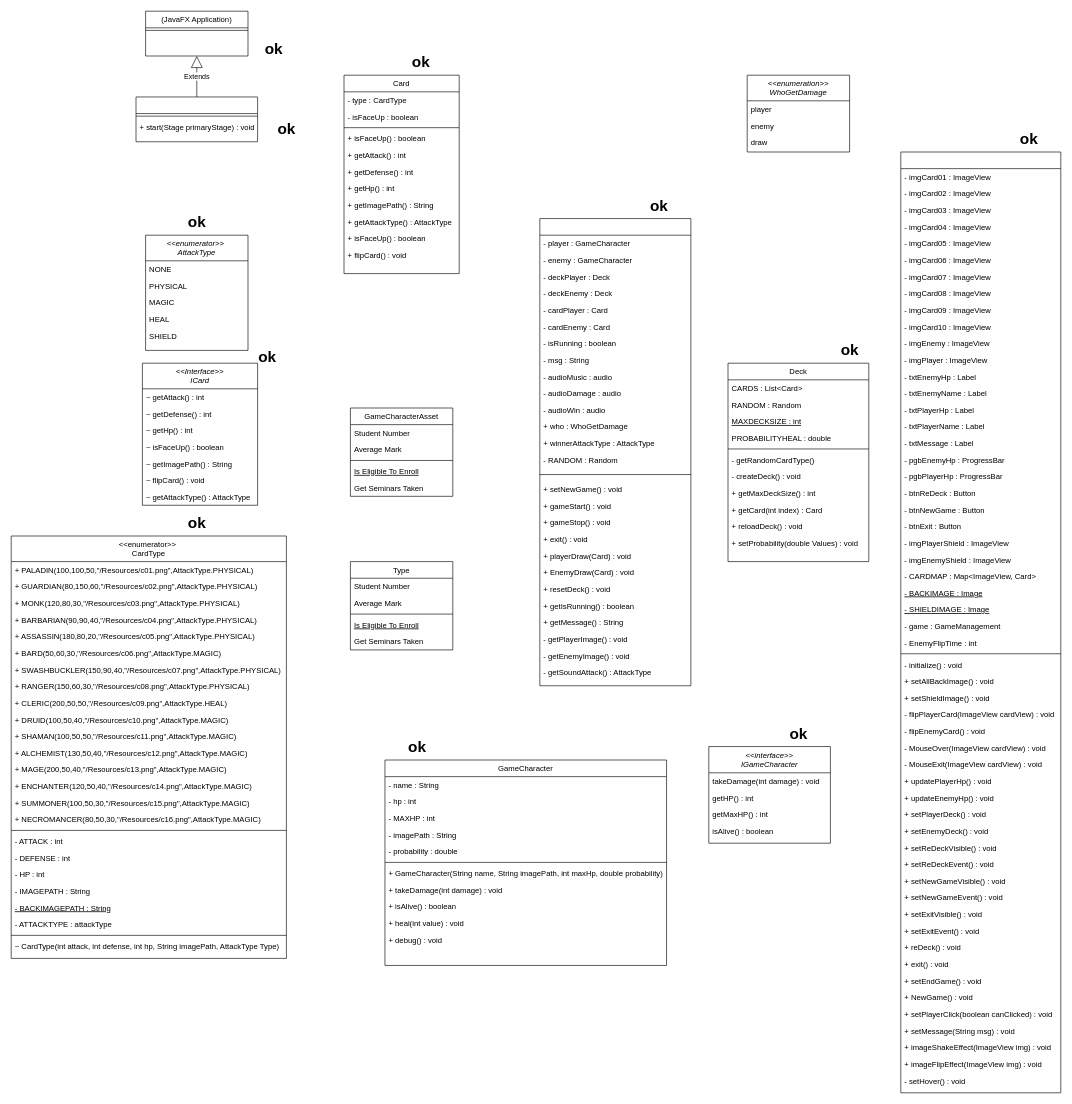
Some shapes in this 1072 by 1104 pixel diagram are drawn without their labels. Each missing label, with the box of its shape:
GameManagement: (539, 218, 691, 686)
Main: (135, 96, 258, 142)
TableController: (900, 151, 1061, 1093)
